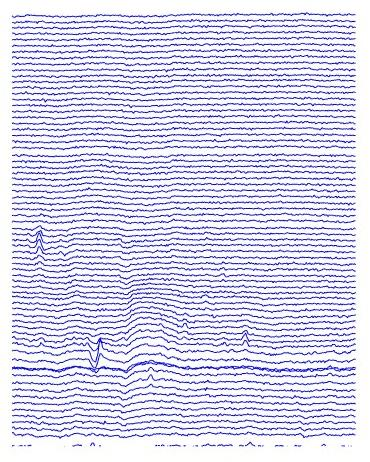defect: (85, 327, 105, 379), (33, 223, 47, 263), (239, 326, 252, 352)
